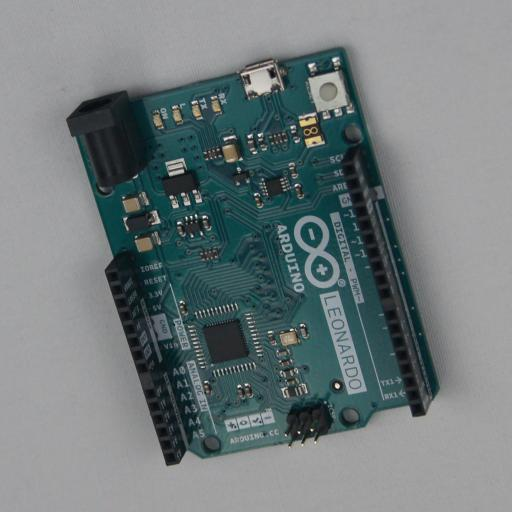Arduino Leonardo: (66, 47, 442, 466)
